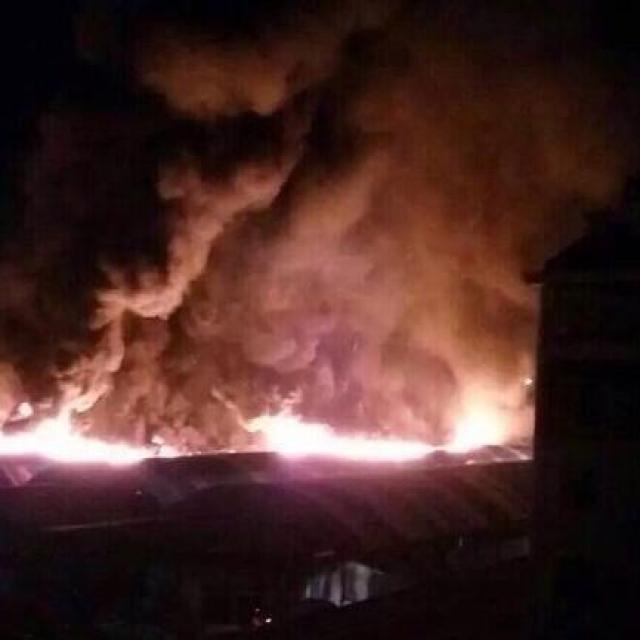fire: (1, 400, 508, 472)
smoke: (18, 14, 524, 396)
